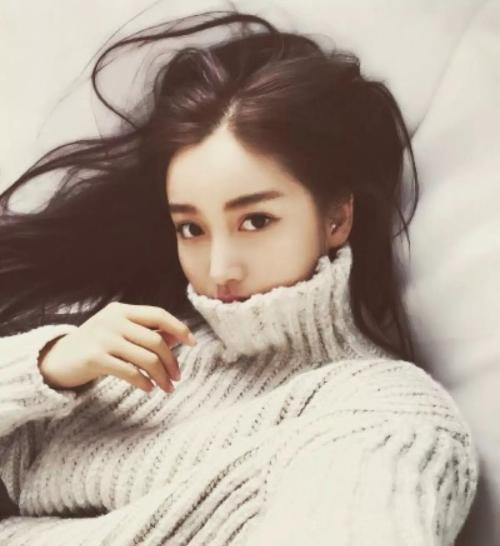no_mask: (149, 28, 421, 352)
